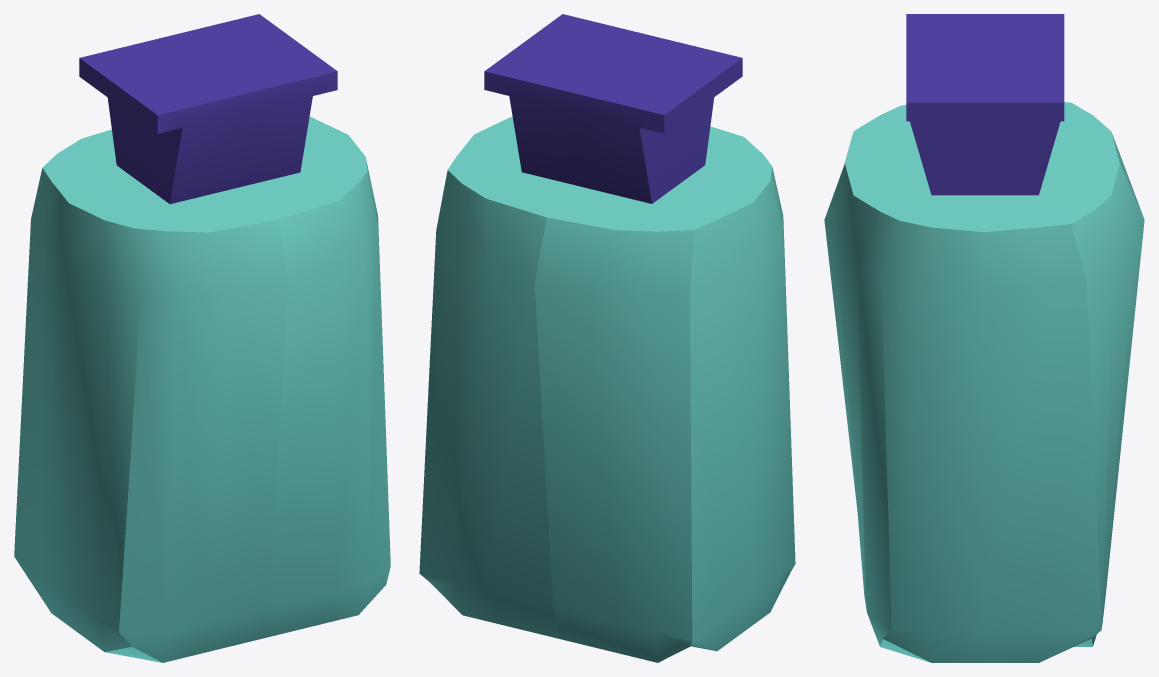
File: shampoo.fbx
3 renders of one model, left to right at view 1: azimuth 30°, elevation 25°; view 2: azimuth 150°, elevation 25°; view 3: azimuth 270°, elevation 25°, orthographic.
Parts seen in each view (by area): view 1: shampoobottle; view 2: shampoobottle; view 3: shampoobottle.
Boxes of the visible parts, x1=… form: shampoobottle: x1=14, y1=14, x2=390, y2=662; shampoobottle: x1=419, y1=14, x2=795, y2=662; shampoobottle: x1=824, y1=14, x2=1144, y2=662.
Bounding box in the file's own units: 71.4 × 123 × 65.88.
